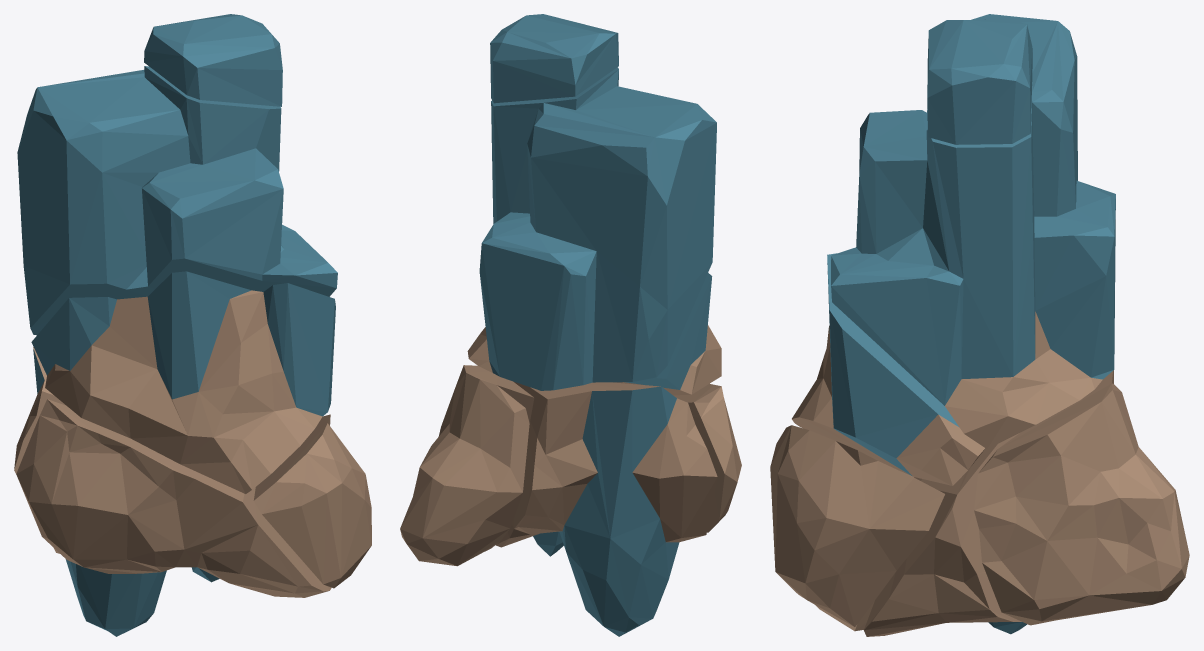
File: SM_LP_Mineral_3_Pieces.fbx
3 views of the same model, side by side, from view 1: azimuth 30°, elevation 25°; view 2: azimuth 150°, elevation 25°; view 3: azimuth 270°, elevation 25° (orthographic). The views are drawn at different scales.
Visible parts, largest first — view 1: SM_LP_Mineral_3_Piece_5, SM_LP_Mineral_3_Piece_7, SM_LP_Mineral_3_Piece_1, SM_LP_Mineral_3_Piece_2, SM_LP_Mineral_3_Piece_4, SM_LP_Mineral_3_Piece_6; view 2: SM_LP_Mineral_3_Piece_5, SM_LP_Mineral_3_Piece_6, SM_LP_Mineral_3_Piece_3, SM_LP_Mineral_3_Piece_4, SM_LP_Mineral_3_Piece_7, SM_LP_Mineral_3_Piece_1; view 3: SM_LP_Mineral_3_Piece_5, SM_LP_Mineral_3_Piece_3, SM_LP_Mineral_3_Piece_2, SM_LP_Mineral_3_Piece_7, SM_LP_Mineral_3_Piece_4, SM_LP_Mineral_3_Piece_6.
Boxes of the visible parts, left/top/right/bottom form: SM_LP_Mineral_3_Piece_5: left=17, top=66, right=337, bottom=335; SM_LP_Mineral_3_Piece_7: left=31, top=271, right=335, bottom=493; SM_LP_Mineral_3_Piece_1: left=16, top=399, right=331, bottom=597; SM_LP_Mineral_3_Piece_2: left=253, top=414, right=371, bottom=588; SM_LP_Mineral_3_Piece_4: left=144, top=14, right=282, bottom=106; SM_LP_Mineral_3_Piece_6: left=14, top=347, right=166, bottom=636; SM_LP_Mineral_3_Piece_5: left=467, top=67, right=716, bottom=390; SM_LP_Mineral_3_Piece_6: left=495, top=381, right=717, bottom=636; SM_LP_Mineral_3_Piece_3: left=400, top=365, right=534, bottom=566; SM_LP_Mineral_3_Piece_4: left=490, top=14, right=618, bottom=103; SM_LP_Mineral_3_Piece_7: left=613, top=273, right=721, bottom=395; SM_LP_Mineral_3_Piece_1: left=673, top=383, right=741, bottom=532; SM_LP_Mineral_3_Piece_5: left=831, top=14, right=1115, bottom=448; SM_LP_Mineral_3_Piece_3: left=974, top=370, right=1189, bottom=625; SM_LP_Mineral_3_Piece_2: left=770, top=425, right=944, bottom=626; SM_LP_Mineral_3_Piece_7: left=792, top=253, right=985, bottom=485; SM_LP_Mineral_3_Piece_4: left=927, top=19, right=1032, bottom=144; SM_LP_Mineral_3_Piece_6: left=864, top=433, right=1027, bottom=636.
Bounding box in the file's own units: 0.6868 × 1.41 × 0.8477.
